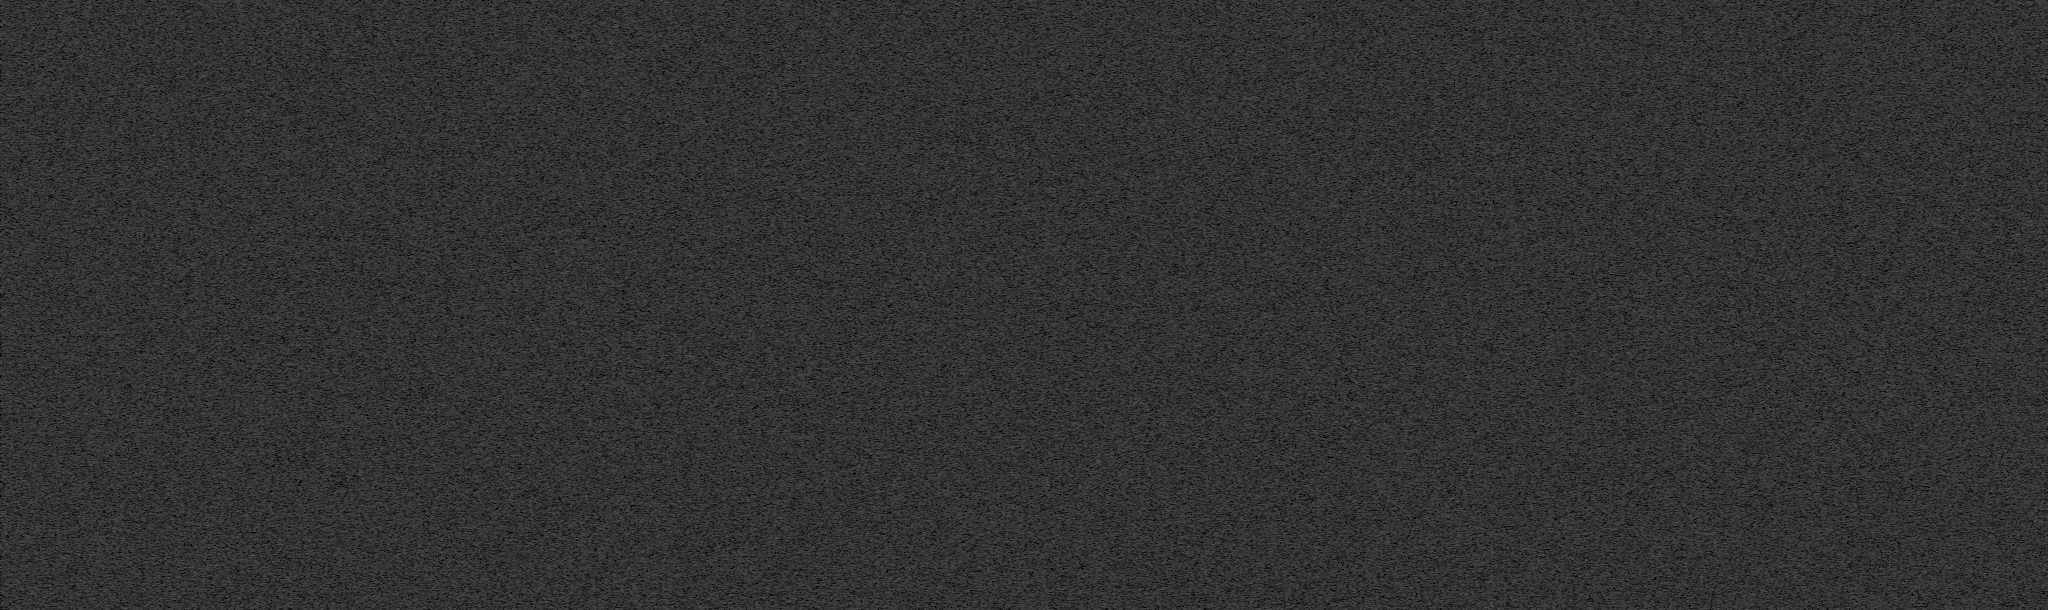wv_cw: (1936, 1, 1951, 610)
wv_lsb: (1942, 176, 1947, 421), (1941, 422, 1947, 610), (1941, 10, 1947, 166), (1942, 167, 1947, 175)
wv_usb: (773, 13, 780, 610), (1779, 10, 1784, 269), (1779, 274, 1784, 384), (1779, 385, 1784, 460), (1779, 515, 1784, 570), (1779, 590, 1784, 610), (1779, 461, 1784, 478), (1779, 570, 1784, 585), (1779, 490, 1784, 502), (1779, 507, 1784, 515), (1779, 479, 1783, 489), (1779, 502, 1783, 506), (1779, 270, 1784, 273), (1780, 586, 1784, 589)
wv_wbfm: (10, 0, 90, 610), (1869, 0, 1934, 610)
